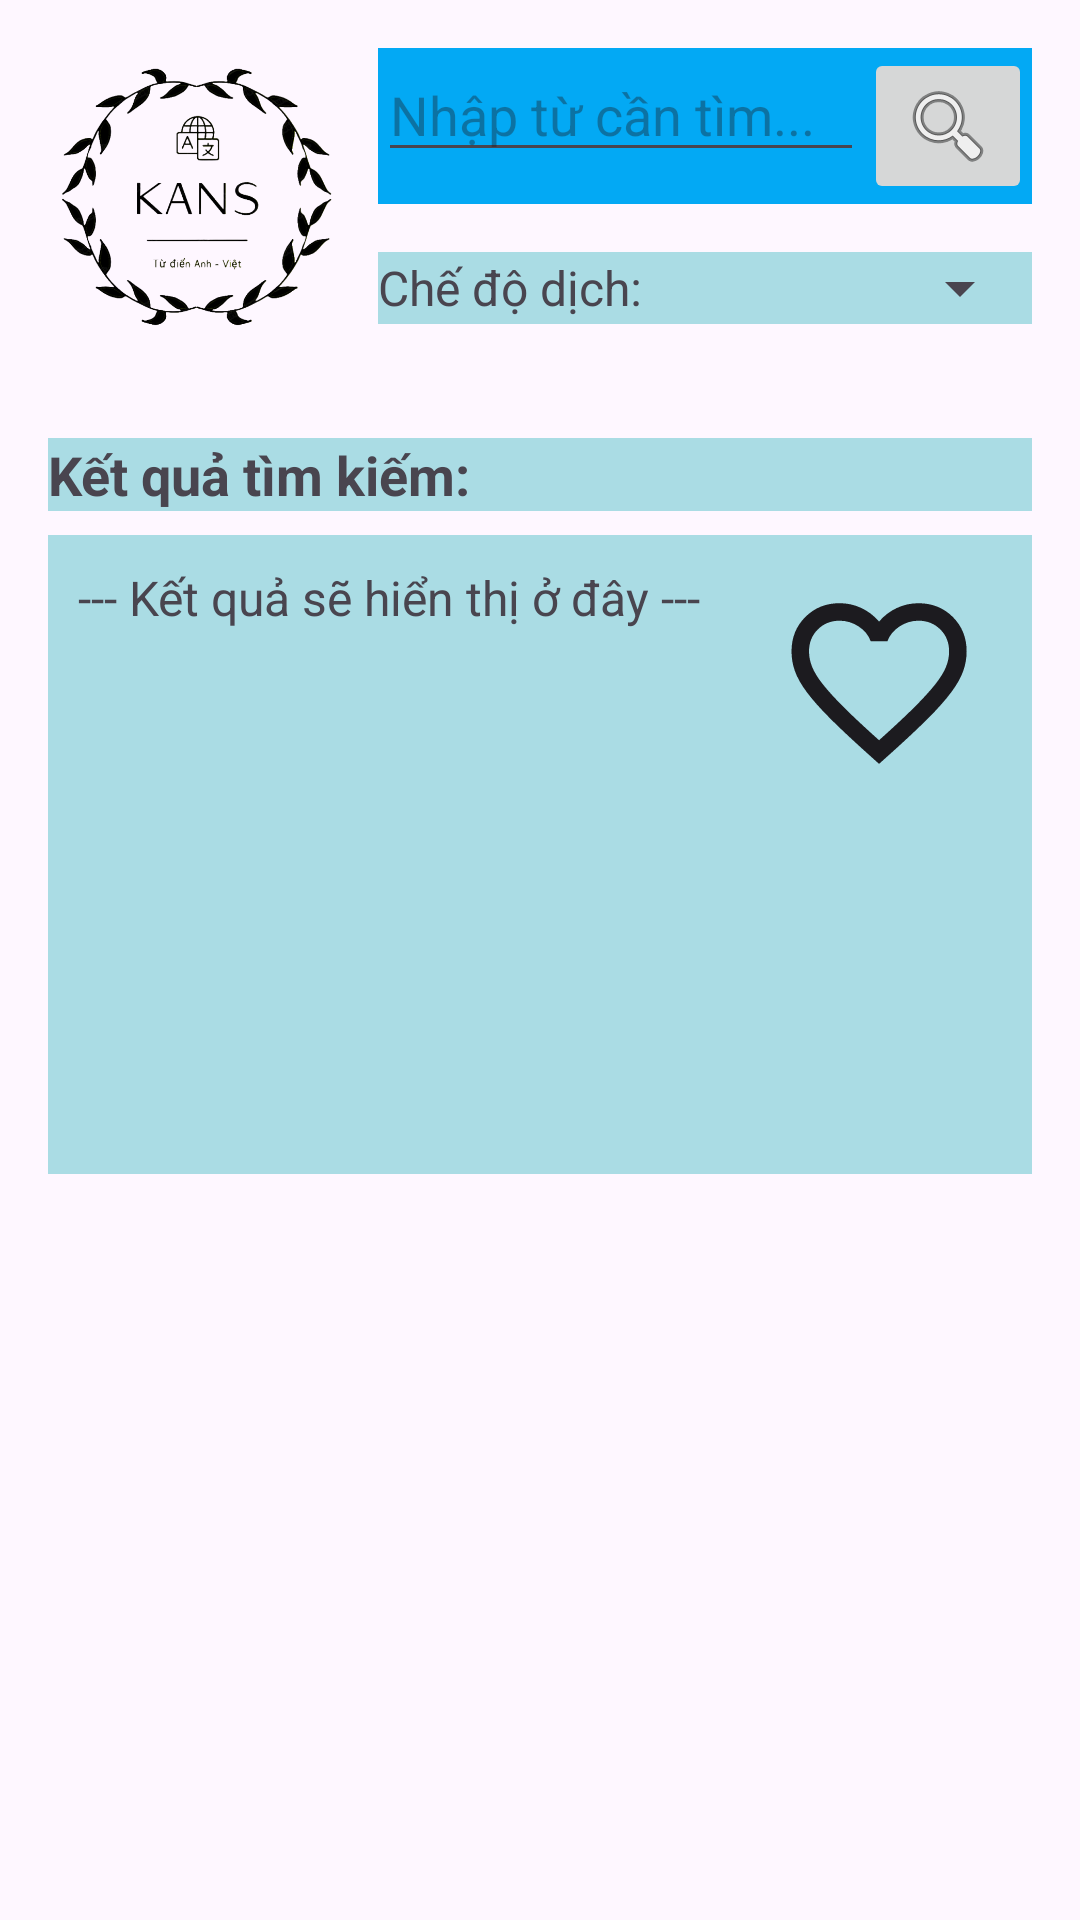

Screen size 1080×1920. Icon name, then its center in pixels as point (x, y):
Thêm vào yêu thích: point (879, 683)
Tìm kiếm: point (948, 126)
